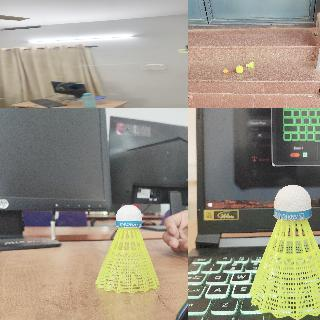shuttlecock: (250, 184, 319, 318), (95, 204, 159, 294), (246, 61, 254, 67), (177, 48, 186, 53)
